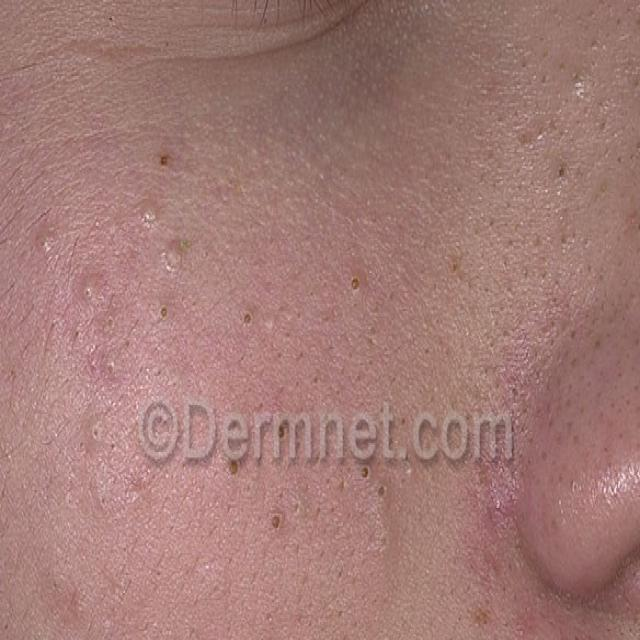Acne: (36, 145, 395, 398), (207, 410, 518, 640), (533, 5, 640, 215), (0, 479, 85, 640)
